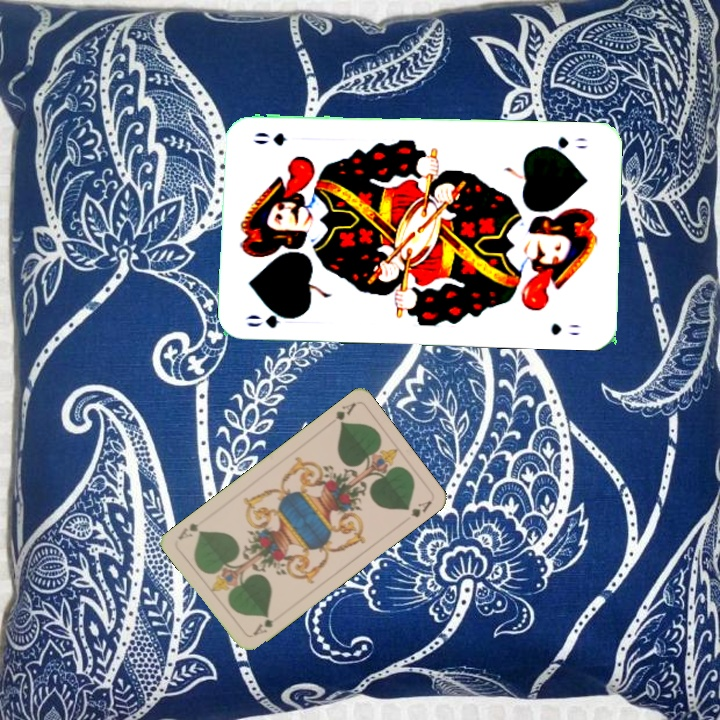GA: (331, 399, 358, 428), (249, 610, 276, 638)
GO: (242, 307, 301, 331), (537, 132, 590, 155)
